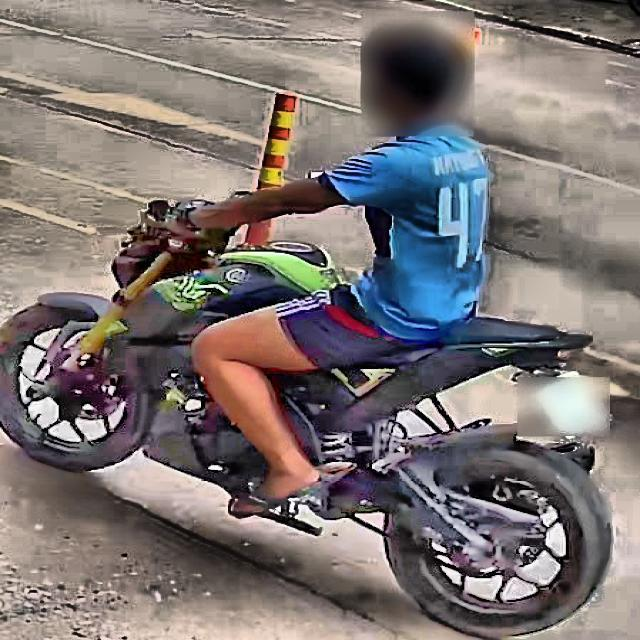motorcycle: (0, 169, 624, 640)
